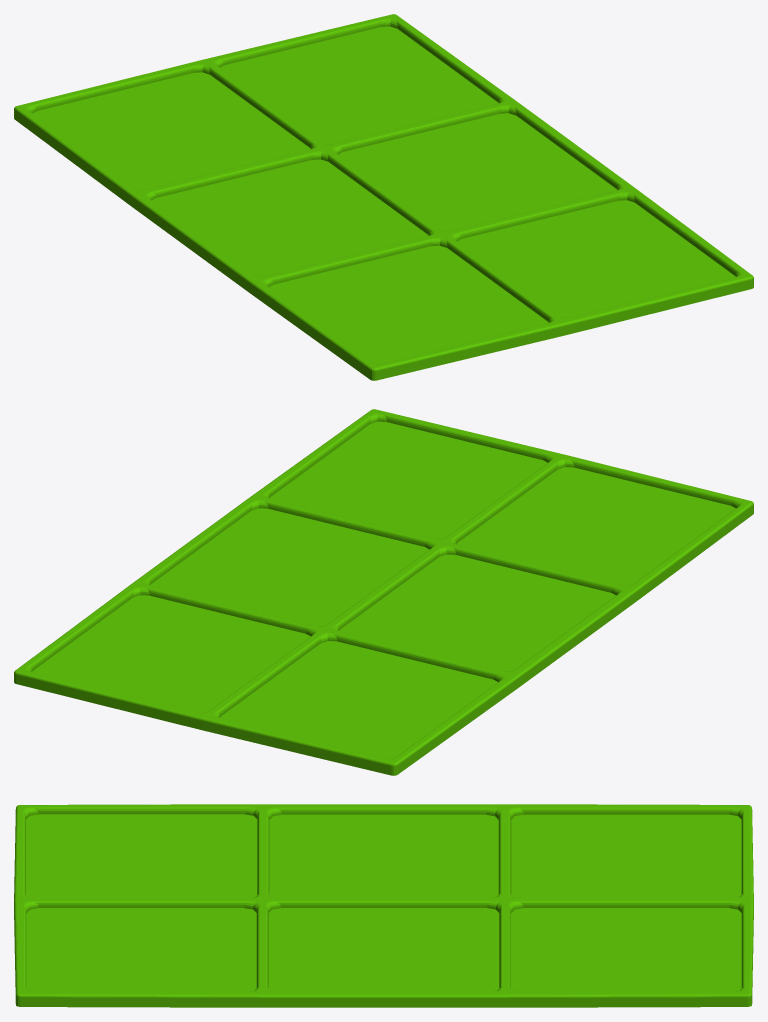
File: plano_final_prueba_prueba_prueba.gltf
The picture shows the model from 3 angles, top to bottom: view 1: azimuth 30°, elevation 25°; view 2: azimuth 150°, elevation 25°; view 3: azimuth 270°, elevation 25°; orthographic projection. The views are drawn at different scales.
Parts seen in each view (by area): view 1: Cube, Cube.001, Cube.005, Cube.004, Cube.006, Cube.003, Cube.002; view 2: Cube, Cube.001, Cube.005, Cube.004, Cube.003, Cube.006, Cube.002; view 3: Cube, Cube.001, Cube.005, Cube.004, Cube.006, Cube.003, Cube.002.
Part boxes in pixels (x1=…): Cube: x1=14, y1=14, x2=753, y2=380; Cube.001: x1=269, y1=245, x2=548, y2=363; Cube.005: x1=338, y1=113, x2=617, y2=230; Cube.004: x1=220, y1=26, x2=498, y2=144; Cube.006: x1=457, y1=200, x2=735, y2=317; Cube.003: x1=32, y1=72, x2=310, y2=189; Cube.002: x1=152, y1=159, x2=428, y2=276; Cube: x1=14, y1=409, x2=753, y2=775; Cube.001: x1=456, y1=467, x2=735, y2=585; Cube.005: x1=150, y1=508, x2=429, y2=625; Cube.004: x1=32, y1=595, x2=310, y2=712; Cube.003: x1=220, y1=641, x2=497, y2=758; Cube.006: x1=269, y1=421, x2=547, y2=538; Cube.002: x1=339, y1=554, x2=615, y2=671; Cube: x1=14, y1=804, x2=753, y2=1007; Cube.001: x1=26, y1=814, x2=257, y2=898; Cube.005: x1=268, y1=908, x2=499, y2=991; Cube.004: x1=511, y1=908, x2=741, y2=991; Cube.006: x1=26, y1=908, x2=256, y2=991; Cube.003: x1=511, y1=814, x2=741, y2=897; Cube.002: x1=269, y1=814, x2=498, y2=897.
Bounding box in the file's own units: 7.65 × 0.2213 × 12.43.
